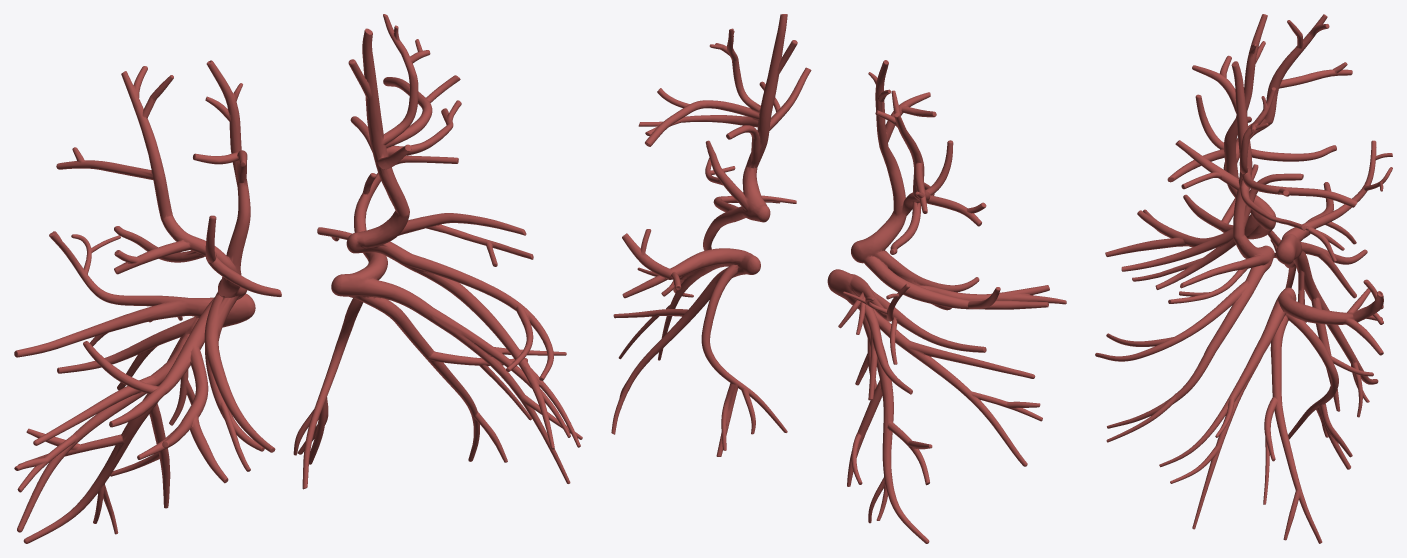
The model's file is FMA66643.glb.
3 renders of one model, left to right at view 1: azimuth 30°, elevation 25°; view 2: azimuth 150°, elevation 25°; view 3: azimuth 270°, elevation 25°, orthographic. The views are drawn at different scales.
Visible parts, largest first — view 1: FMA66643; view 2: FMA66643; view 3: FMA66643.
Part boxes in pixels (bbox=[...]): FMA66643: bbox=[14, 14, 582, 543]; FMA66643: bbox=[611, 14, 1066, 543]; FMA66643: bbox=[1095, 14, 1392, 543].
Bounding box in the file's own units: 0.2469 × 0.2349 × 0.1485.
